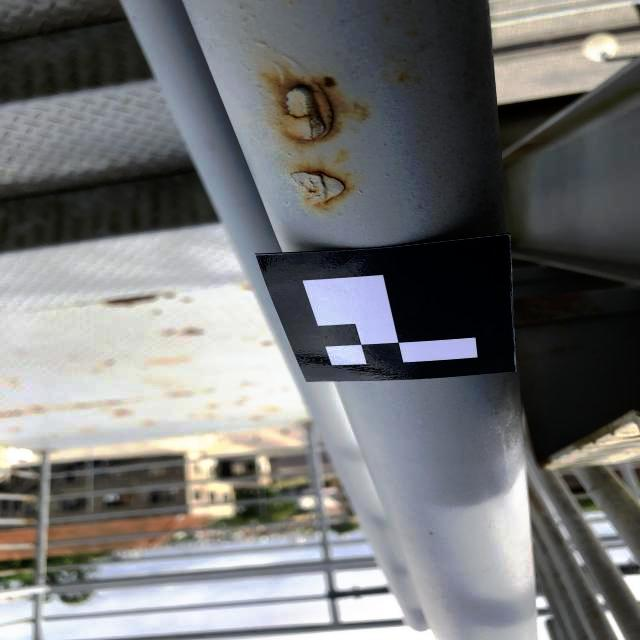Corrosion: (259, 63, 367, 146), (290, 164, 354, 209), (514, 291, 581, 322), (104, 294, 157, 306), (185, 329, 197, 336)
